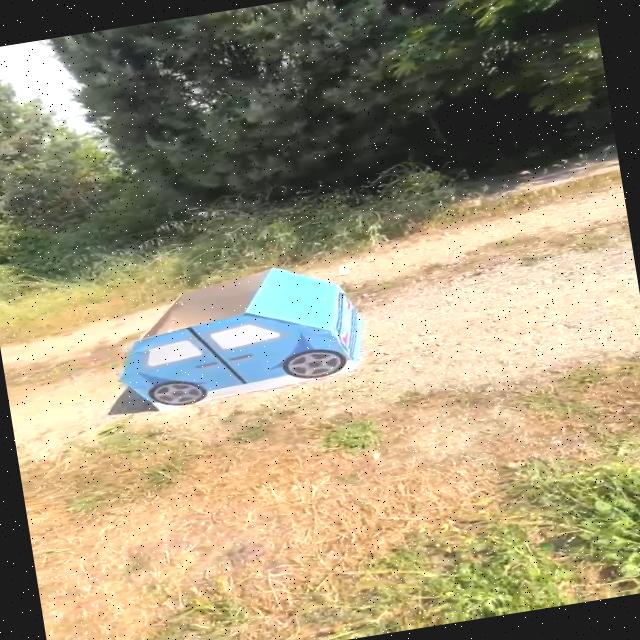blue_car: (100, 236, 402, 437)
